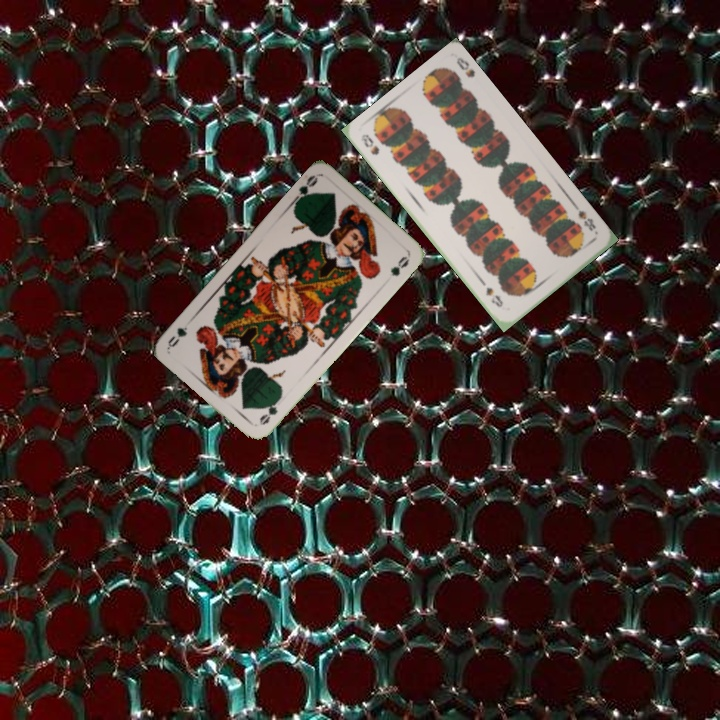GO: (288, 171, 320, 208), (255, 393, 284, 428)
S8: (571, 202, 598, 234), (357, 130, 382, 158)
